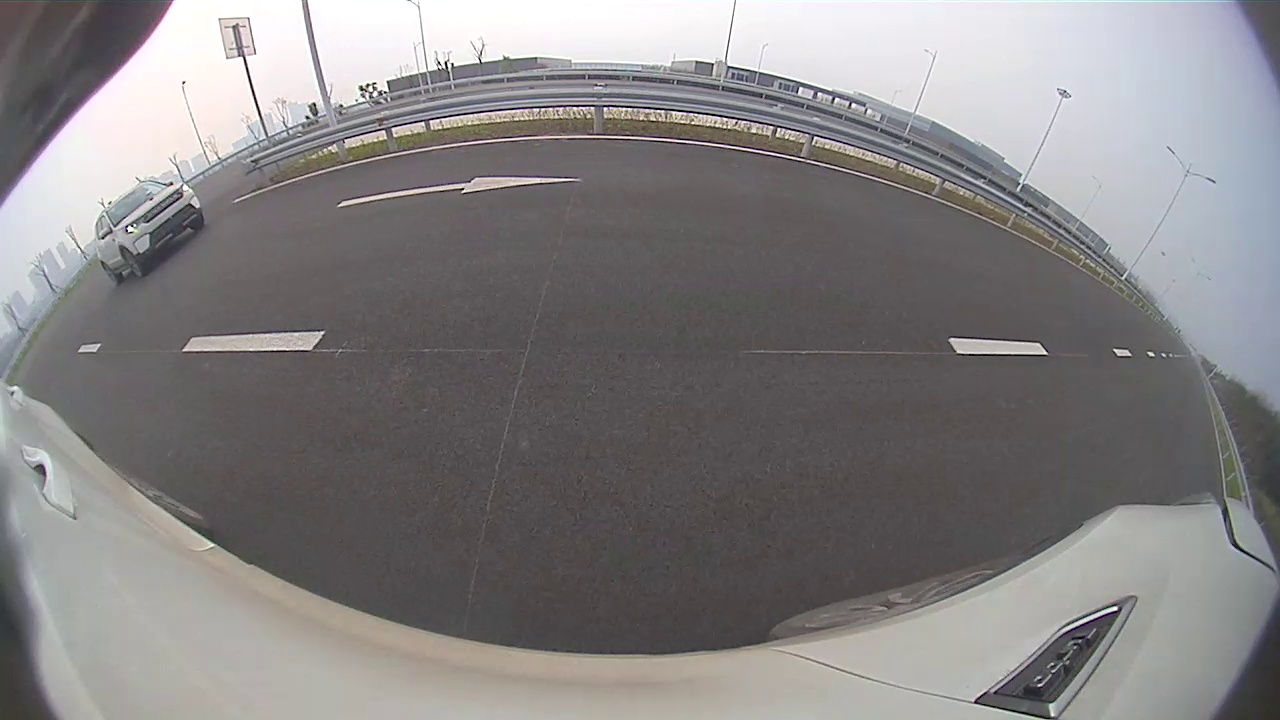car: (407, 145, 533, 232)
front: (518, 178, 533, 210)
rear: (486, 186, 508, 222)
